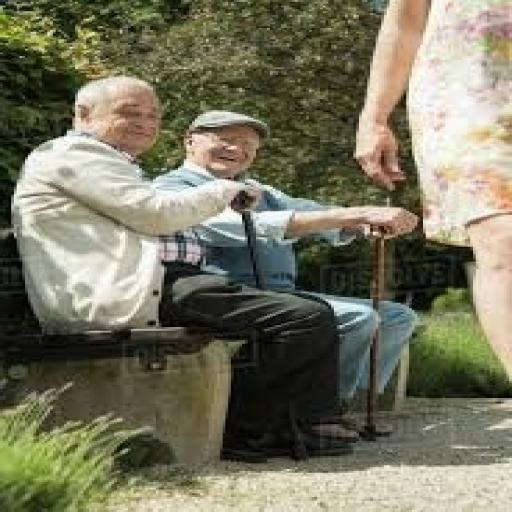sitting: (8, 73, 420, 458)
